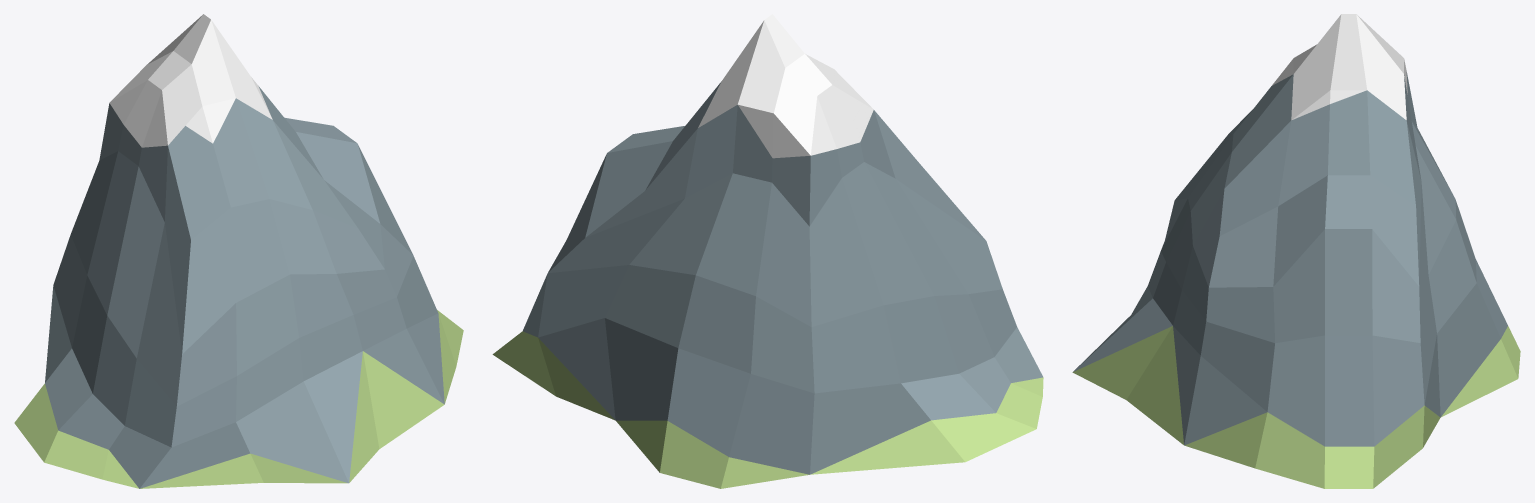
File: mountain.gltf
The picture shows the model from 3 angles, left to right: view 1: azimuth 30°, elevation 25°; view 2: azimuth 150°, elevation 25°; view 3: azimuth 270°, elevation 25°; orthographic projection. The views are drawn at different scales.
Parts seen in each view (by area): view 1: buffer-0-mesh-0_0, buffer-0-mesh-0_2, buffer-0-mesh-0_1; view 2: buffer-0-mesh-0_0, buffer-0-mesh-0_2, buffer-0-mesh-0_1; view 3: buffer-0-mesh-0_0, buffer-0-mesh-0_2, buffer-0-mesh-0_1.
Boxes of the visible parts, box(x1,y1,x2,y2) form: buffer-0-mesh-0_0: box(45, 86, 444, 488); buffer-0-mesh-0_2: box(14, 310, 463, 488); buffer-0-mesh-0_1: box(109, 14, 272, 147); buffer-0-mesh-0_0: box(523, 81, 1042, 474); buffer-0-mesh-0_2: box(492, 331, 1043, 488); buffer-0-mesh-0_1: box(698, 14, 873, 158); buffer-0-mesh-0_0: box(1073, 72, 1507, 446); buffer-0-mesh-0_2: box(1072, 326, 1520, 488); buffer-0-mesh-0_1: box(1272, 14, 1407, 120).
Bounding box in the file's own units: 16.29 × 12.58 × 14.28.
